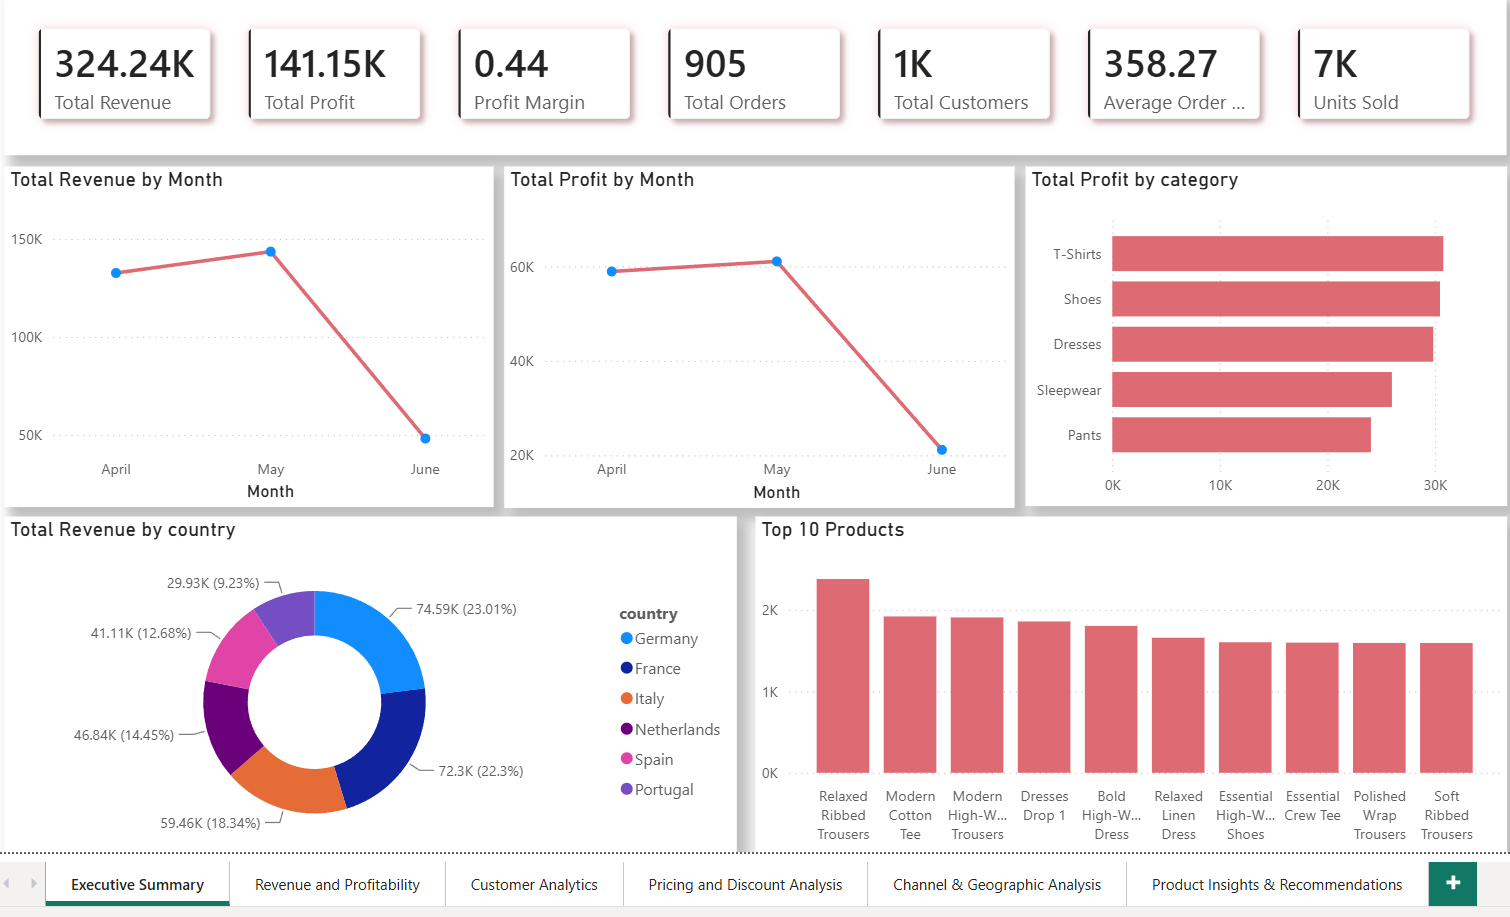

Layout of this report page (visuals, bound fields, positions):
{"tool":"powerbi","page":{"name":"Executive Summary","canvas":[1280,720],"ordinal":0},"visuals":[{"type":"cardVisual","fields":{"Data":["salesitems.Total Revenue","salesitems.Total Profit","salesitems.Profit Margin","salesitems.Total Orders","salesitems.Total Customers","salesitems.Average Order Value","salesitems.Units Sold"]},"box":[9.4,0,1260,134.9],"z":0},{"type":"lineChart","fields":{"Category":["salesitems.sale_date.Variation.Date Hierarchy.Month"],"Y":["salesitems.Total Revenue"]},"box":[9.4,144.4,410.3,285.4],"z":1000},{"type":"lineChart","fields":{"Category":["salesitems.sale_date.Variation.Date Hierarchy.Month"],"Y":["salesitems.Total Profit"]},"box":[429,144.4,427.7,286],"z":2000},{"type":"clusteredBarChart","fields":{"Category":["products.category"],"Y":["salesitems.Total Profit"]},"box":[866.1,144.4,403.6,284.9],"z":3000},{"type":"donutChart","fields":{"Category":["customers.country"],"Y":["salesitems.Total Revenue"]},"box":[9.4,438.5,614.8,281.3],"z":4000},{"type":"clusteredColumnChart","title":"Top 10 Products","fields":{"Category":["products.product_name"],"Y":["salesitems.Total Revenue"]},"box":[639.5,438.5,630,282],"z":5000}]}

Visuals, with their boxes on the page's 1280x720 design canvas (x1, y1, x2, y2). These are canvas units, not pixel positions in the 1510x917 screenshot, which may show the page scaled, cropped or inside an application window:
cardVisual - salesitems.Total Revenue x salesitems.Total Profit: (x1=9, y1=0, x2=1269, y2=135)
lineChart - salesitems.sale_date.Variation.Date Hierarchy.Month x salesitems.Total Revenue: (x1=9, y1=144, x2=420, y2=430)
lineChart - salesitems.sale_date.Variation.Date Hierarchy.Month x salesitems.Total Profit: (x1=429, y1=144, x2=857, y2=430)
clusteredBarChart - products.category x salesitems.Total Profit: (x1=866, y1=144, x2=1270, y2=429)
donutChart - customers.country x salesitems.Total Revenue: (x1=9, y1=438, x2=624, y2=720)
"Top 10 Products" clusteredColumnChart: (x1=640, y1=438, x2=1270, y2=720)
